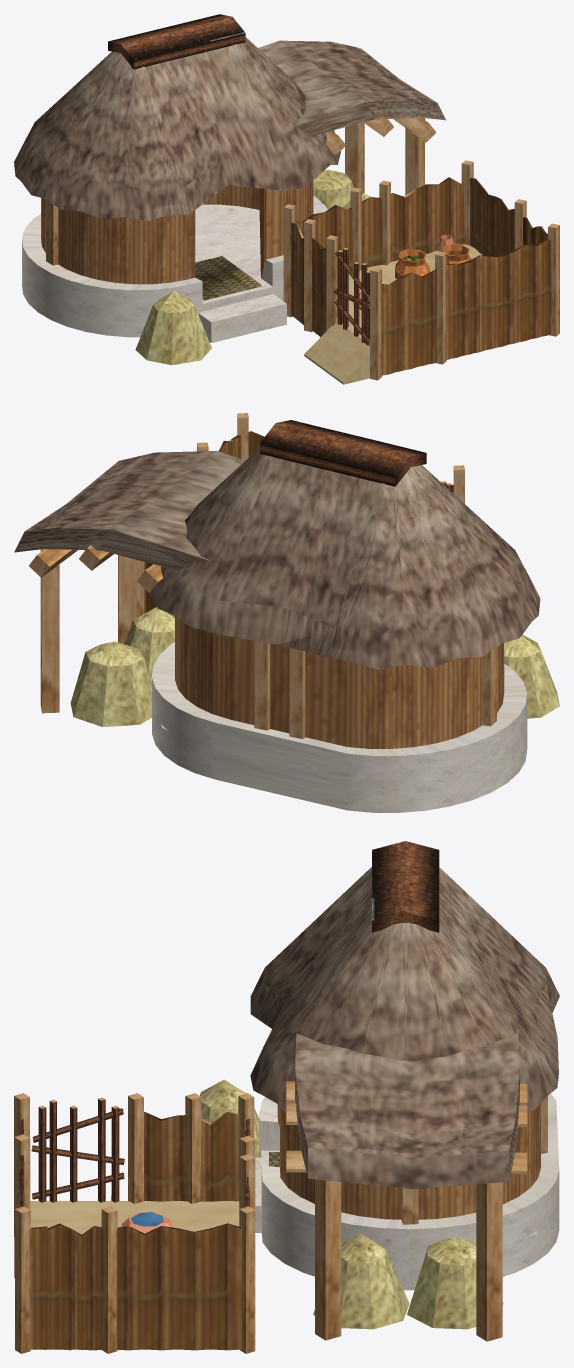
File: corral_1.dae
3 views of the same model, one above another, from view 1: azimuth 30°, elevation 25°; view 2: azimuth 150°, elevation 25°; view 3: azimuth 270°, elevation 25° (orthographic). The views are drawn at different scales.
Visible parts, largest first — view 1: corral_1; view 2: corral_1; view 3: corral_1.
Part boxes in pixels (bbox=[...]): corral_1: bbox=[14, 14, 559, 384]; corral_1: bbox=[14, 413, 559, 812]; corral_1: bbox=[14, 841, 559, 1353].
Bounding box in the file's own units: 14.39 × 13.72 × 9.18.
